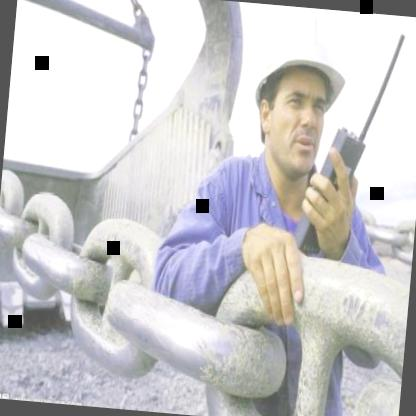helmet: (235, 6, 356, 196)
